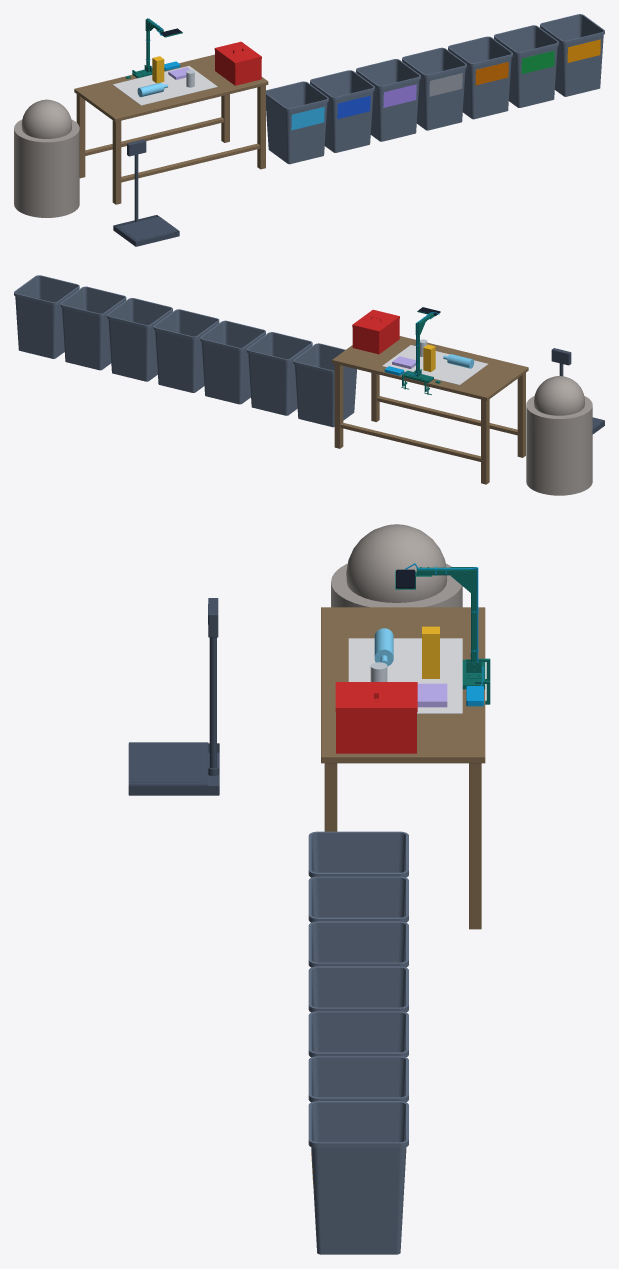
3 views of the same model, one above another, from view 1: azimuth 30°, elevation 25°; view 2: azimuth 150°, elevation 25°; view 3: azimuth 270°, elevation 25° (orthographic). The views are drawn at different scales.
Parts seen in each view (by area): view 1: Bins by material class (7), Sorting bench (site's own), Input sack, mixed material, Platform scale, 60 kg, Hazard box, lidded steel, Light sorting mat, Bin label: HDPE and PP, Bin label: Film (LDPE), Bin label: Metal, Bin label: PET, Bin label: Paper and carton, Bin label: Glass (+3 smaller); view 2: Bins by material class (7), Sorting bench (site's own), Input sack, mixed material, Hazard box, lidded steel, Light sorting mat, Phone stand, clamped post and arm, Platform scale, 60 kg, Beverage carton, Power bank and cable; view 3: Bins by material class (7), Sorting bench (site's own), Input sack, mixed material, Platform scale, 60 kg, Hazard box, lidded steel, Light sorting mat, Phone stand, clamped post and arm, Beverage carton.
Part boxes in pixels (box(x1,y1,x2,y2)): Bins by material class (7): box(266, 14, 604, 164); Sorting bench (site's own): box(74, 54, 268, 204); Input sack, mixed material: box(14, 99, 79, 217); Platform scale, 60 kg: box(113, 139, 179, 246); Hazard box, lidded steel: box(214, 41, 261, 85); Light sorting mat: box(112, 66, 217, 105); Bin label: HDPE and PP: box(337, 95, 370, 119); Bin label: Film (LDPE): box(383, 84, 416, 107); Bin label: Metal: box(429, 73, 462, 96); Bin label: PET: box(291, 107, 324, 130); Bin label: Paper and carton: box(475, 62, 508, 85); Bin label: Glass: box(521, 50, 554, 74); Bins by material class (7): box(14, 275, 356, 427); Sorting bench (site's own): box(332, 336, 528, 484); Input sack, mixed material: box(526, 376, 592, 495); Hazard box, lidded steel: box(352, 309, 399, 354); Light sorting mat: box(382, 345, 487, 385); Phone stand, clamped post and arm: box(401, 307, 440, 394); Platform scale, 60 kg: box(551, 348, 604, 434); Beverage carton: box(423, 344, 435, 371); Power bank and cable: box(384, 312, 439, 375); Bins by material class (7): box(308, 831, 408, 1254); Sorting bench (site's own): box(321, 607, 485, 929); Input sack, mixed material: box(331, 524, 462, 607); Platform scale, 60 kg: box(128, 598, 219, 795); Hazard box, lidded steel: box(335, 682, 417, 753); Light sorting mat: box(348, 638, 462, 713); Phone stand, clamped post and arm: box(395, 567, 490, 704); Beverage carton: box(422, 626, 439, 678).
Size of the model in its own units: 5.17 by 1.24 by 1.43.
